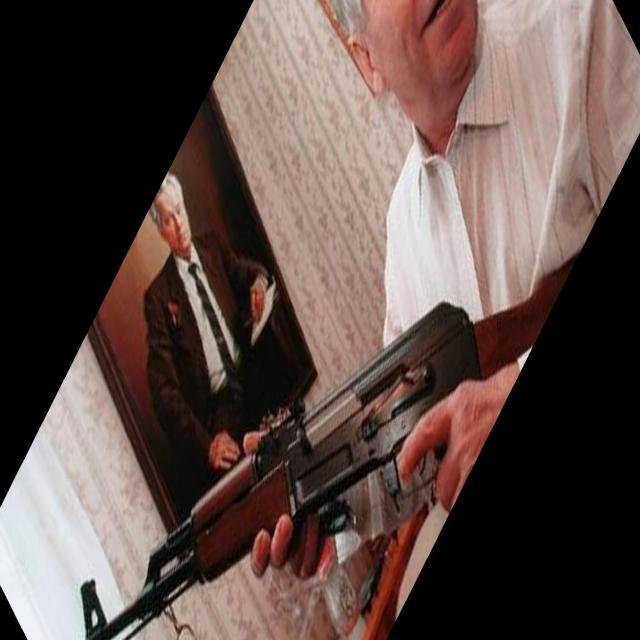weapon: (80, 250, 582, 640)
